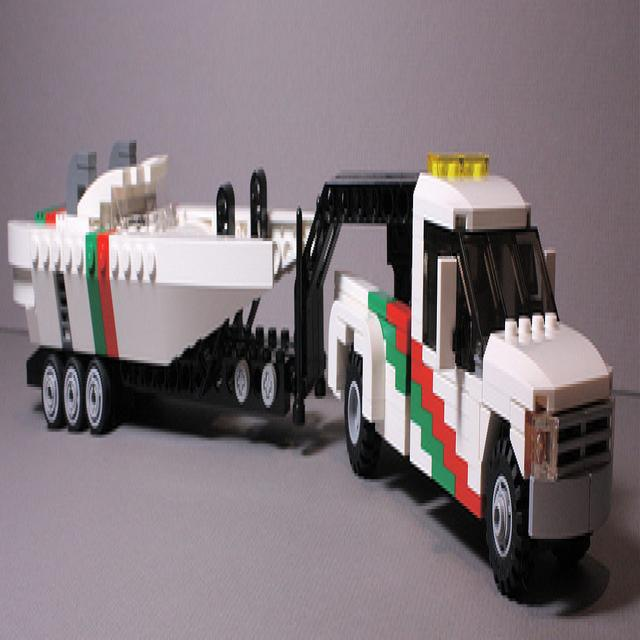Vehicle: (7, 141, 617, 596)
